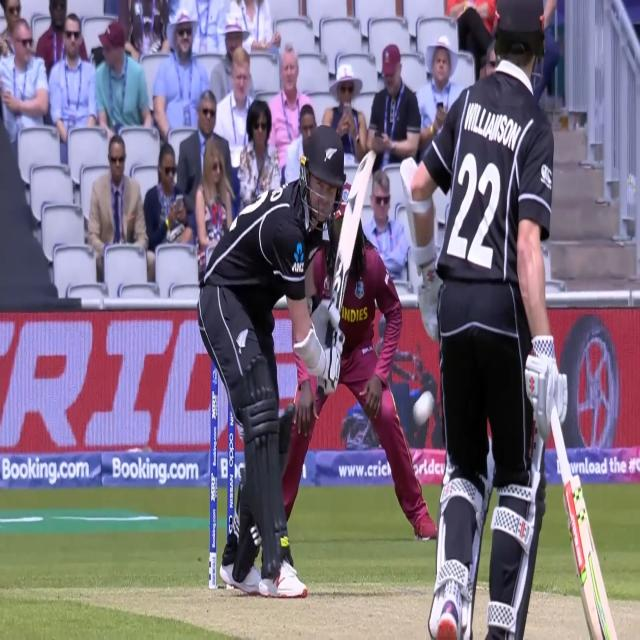ball: (410, 386, 436, 428)
